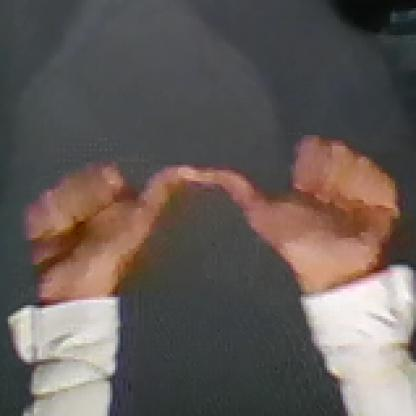A: (15, 128, 393, 282)
